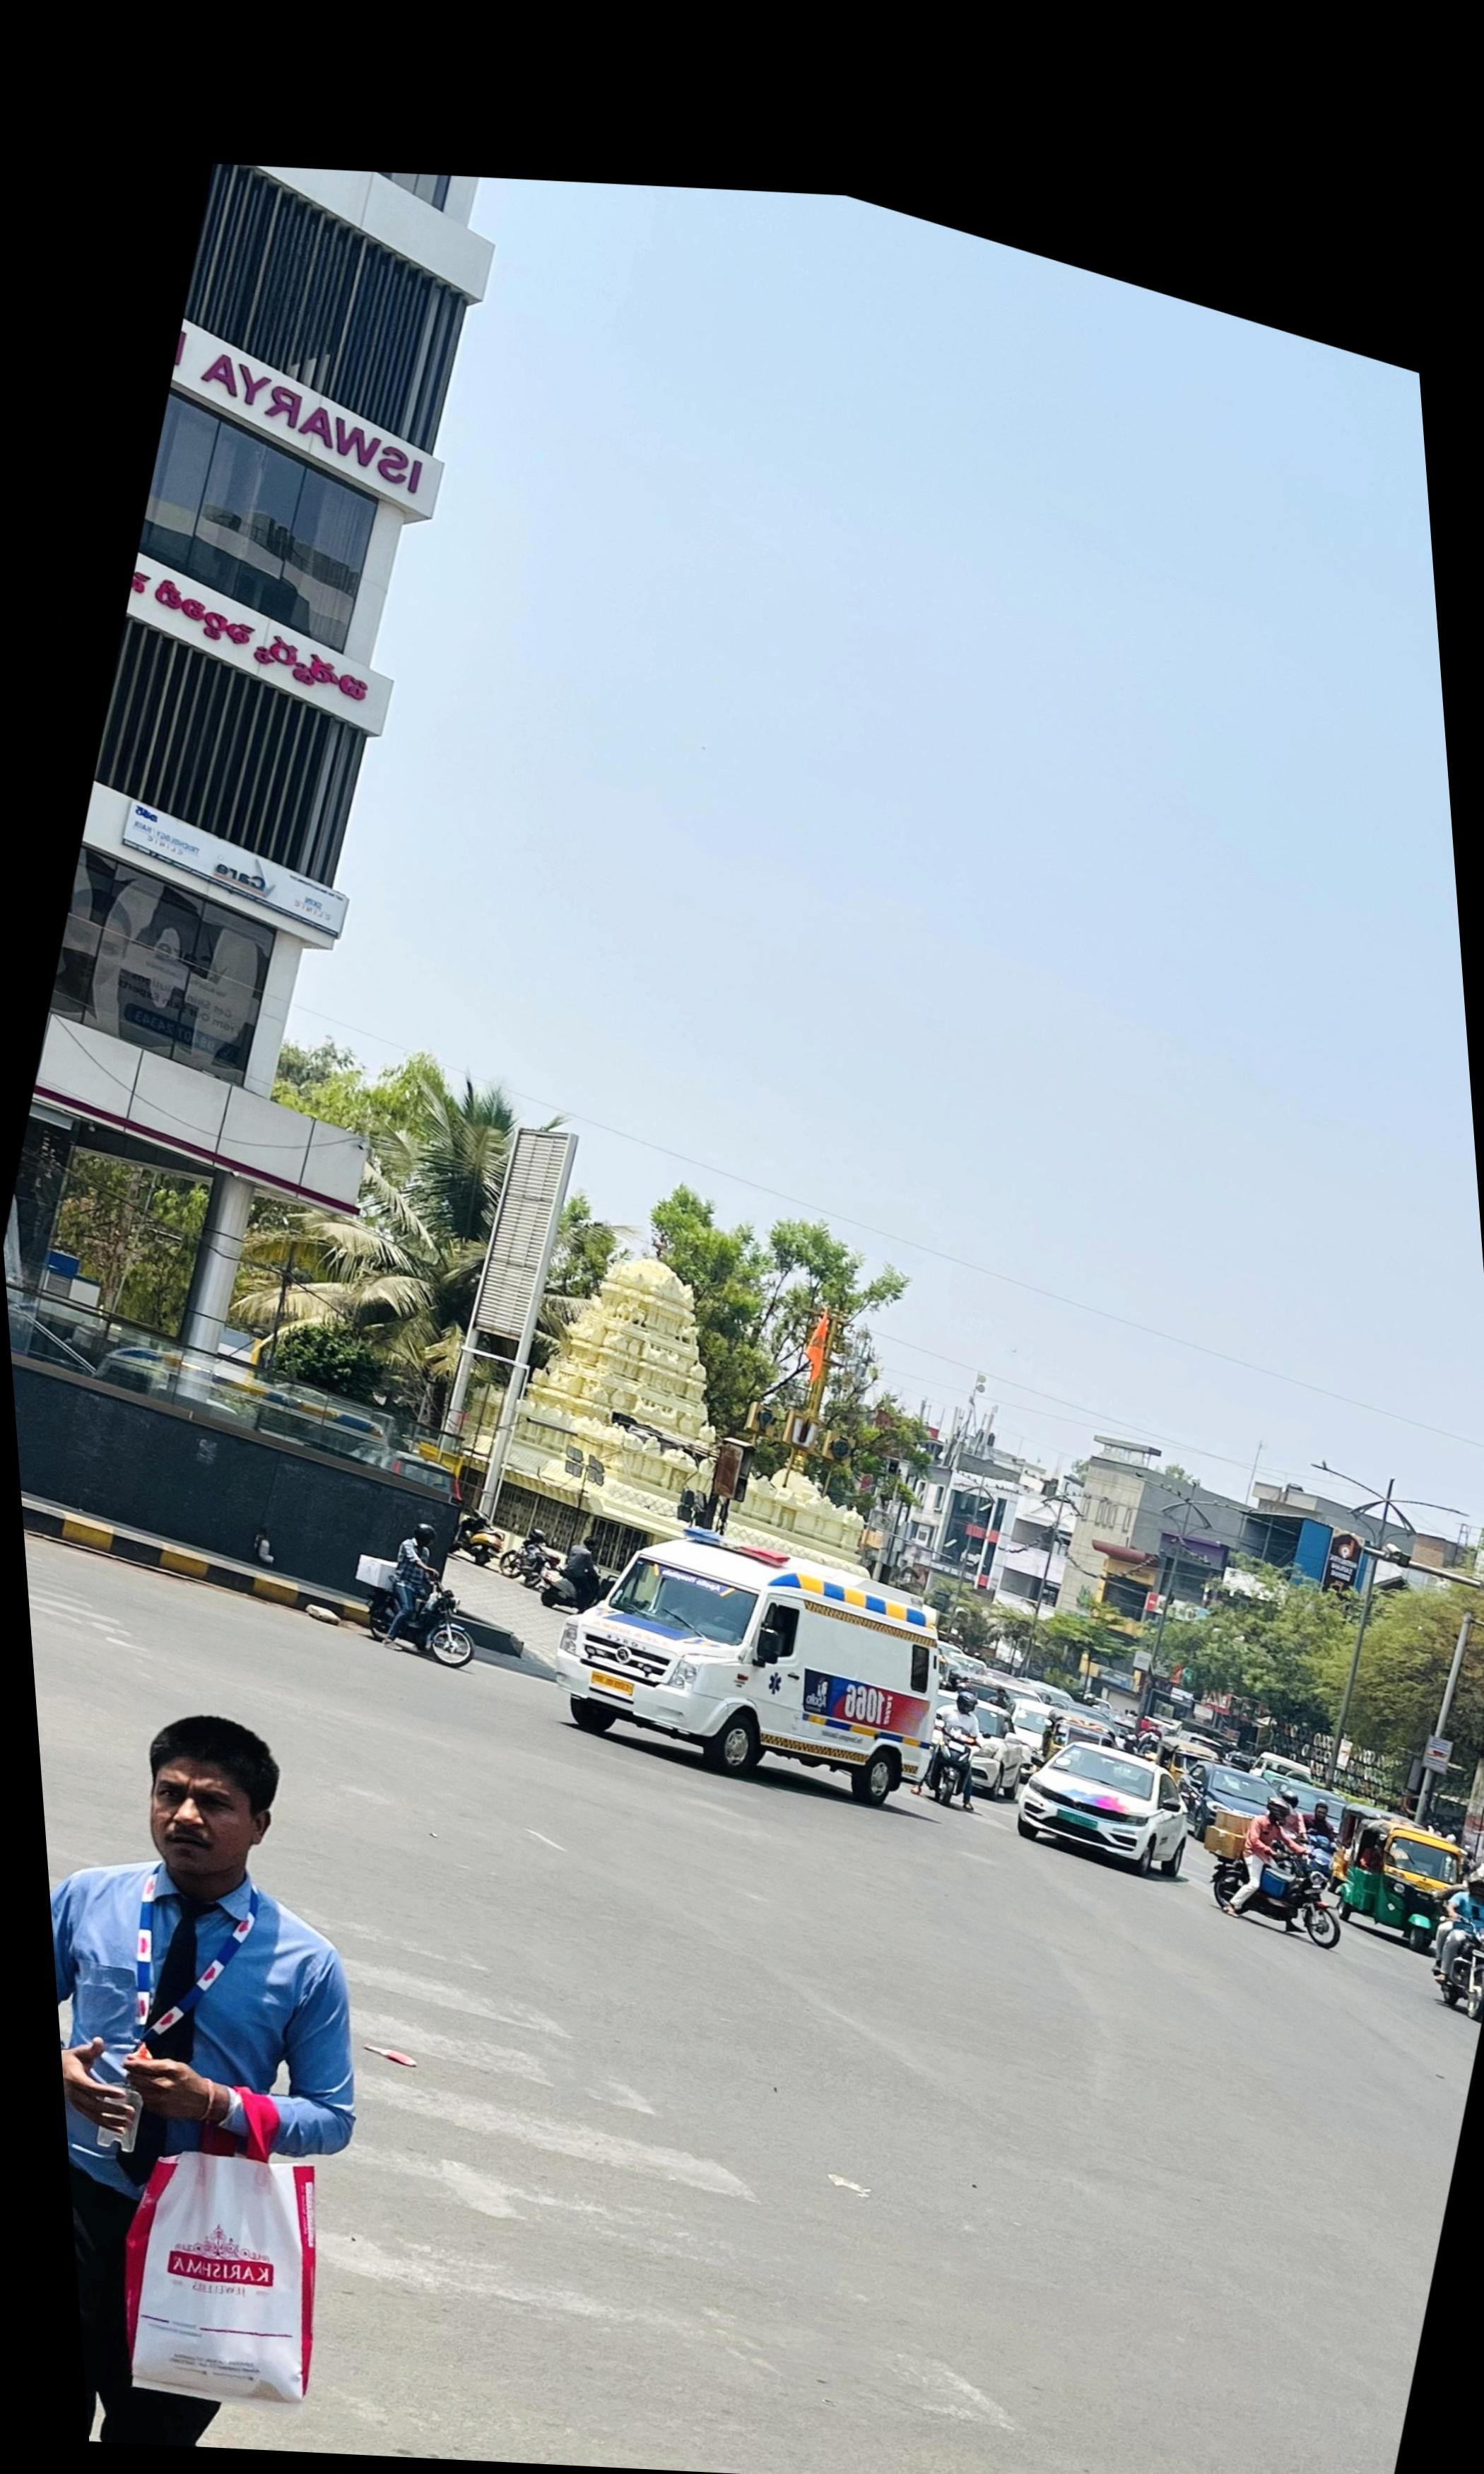ambulance: (555, 1525, 942, 1806)
